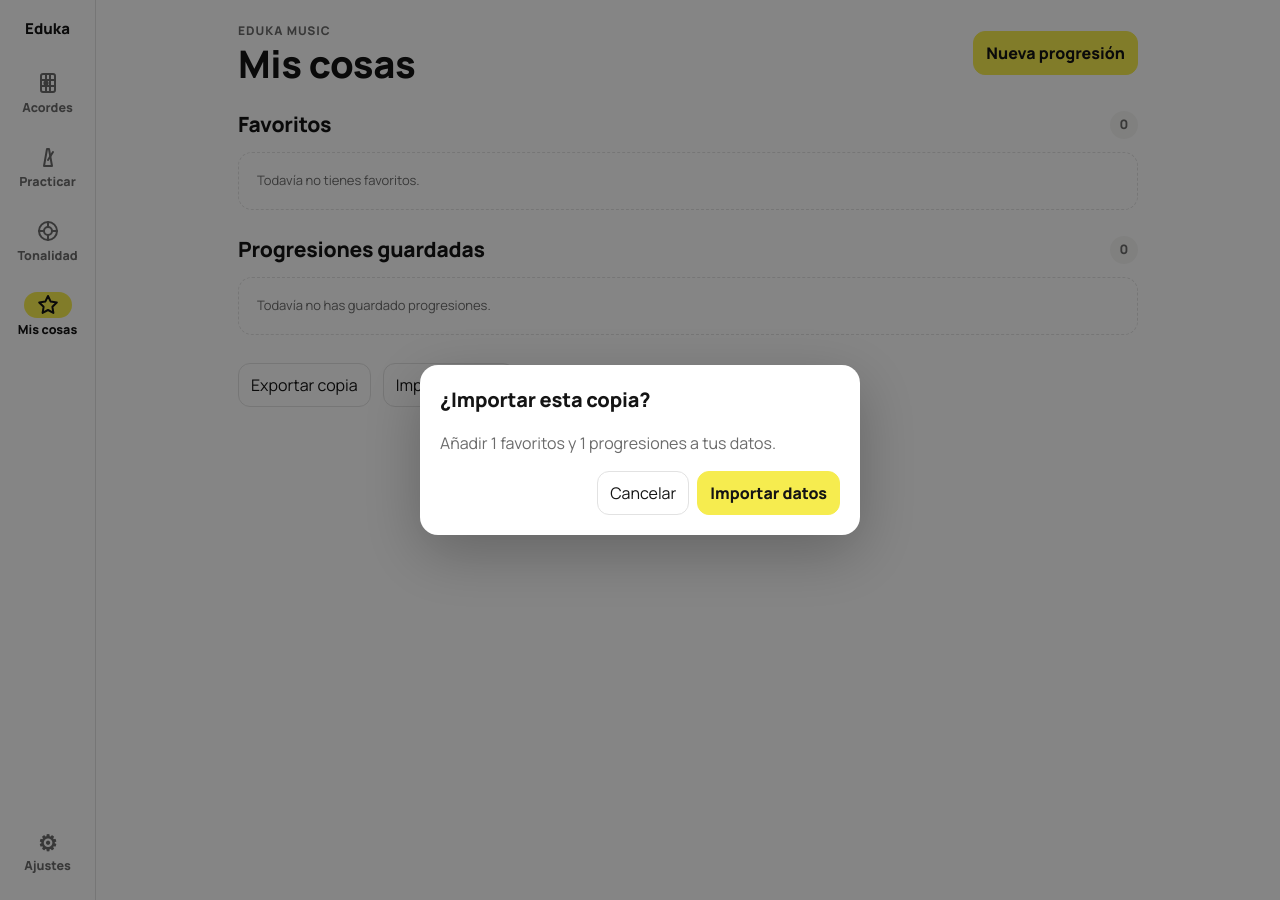
Test: Mis cosas › importar una copia válida pide confirmación y fusiona sus elementos
The image size is (1280, 900).
Earlier steps of the test are not shown.
Expected: the dialog "¿Importar esta copia?" is shown, left=420, top=365, right=860, bottom=535
Click the button "Importar datos". click: (769, 493)
box: left=697, top=471, right=840, bottom=515
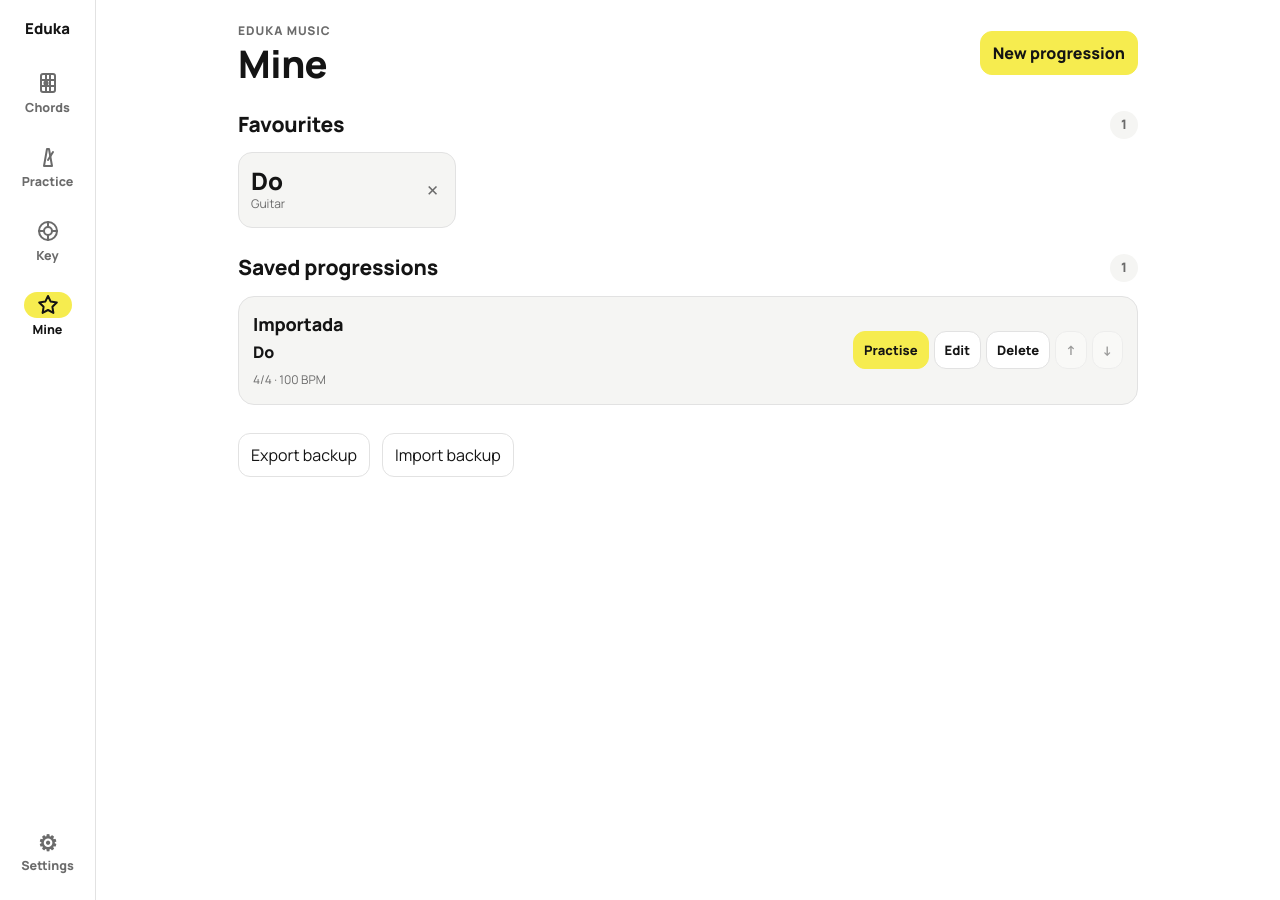
Expected: the heading "Importada" is shown, left=253, top=311, right=343, bottom=338
